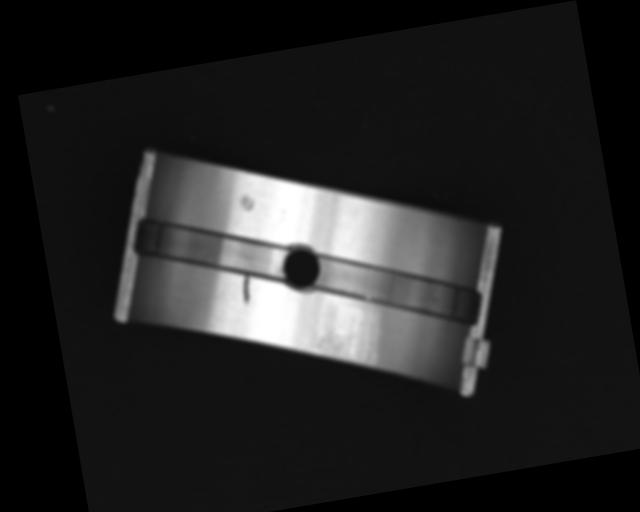bruise: (237, 193, 257, 214)
gap: (311, 232, 480, 344), (131, 199, 289, 296)
hole: (277, 244, 323, 291)
nick: (238, 273, 254, 308)
scratch: (312, 304, 384, 384)
